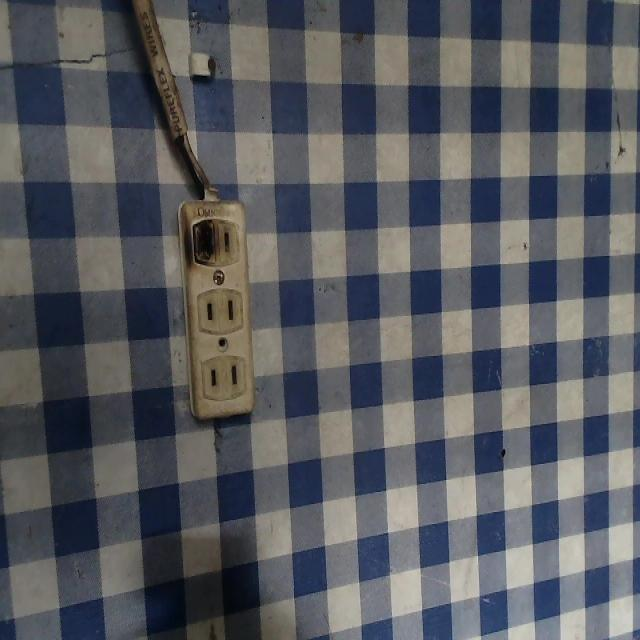-: (187, 204, 221, 272)
